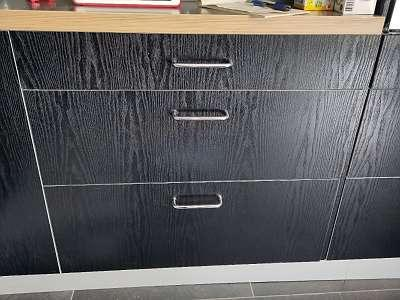cabinet_door: (21, 92, 362, 181), (38, 181, 338, 263), (17, 30, 378, 90)
handle: (166, 104, 232, 126), (168, 54, 236, 74), (168, 190, 224, 214)
